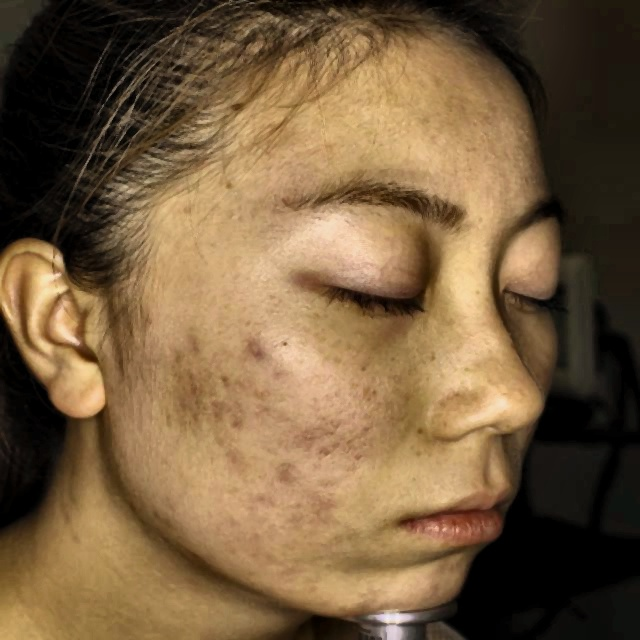comedone: (176, 323, 213, 366), (263, 462, 306, 492), (218, 401, 254, 435), (249, 333, 279, 363)
